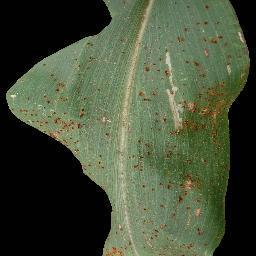Corn_Common_Rust: (133, 138, 229, 223), (182, 0, 247, 82), (11, 94, 116, 139), (103, 224, 215, 256), (170, 83, 236, 136), (60, 138, 131, 175), (74, 32, 128, 71), (145, 32, 181, 80), (44, 70, 77, 94), (136, 113, 167, 134), (137, 85, 159, 104)
